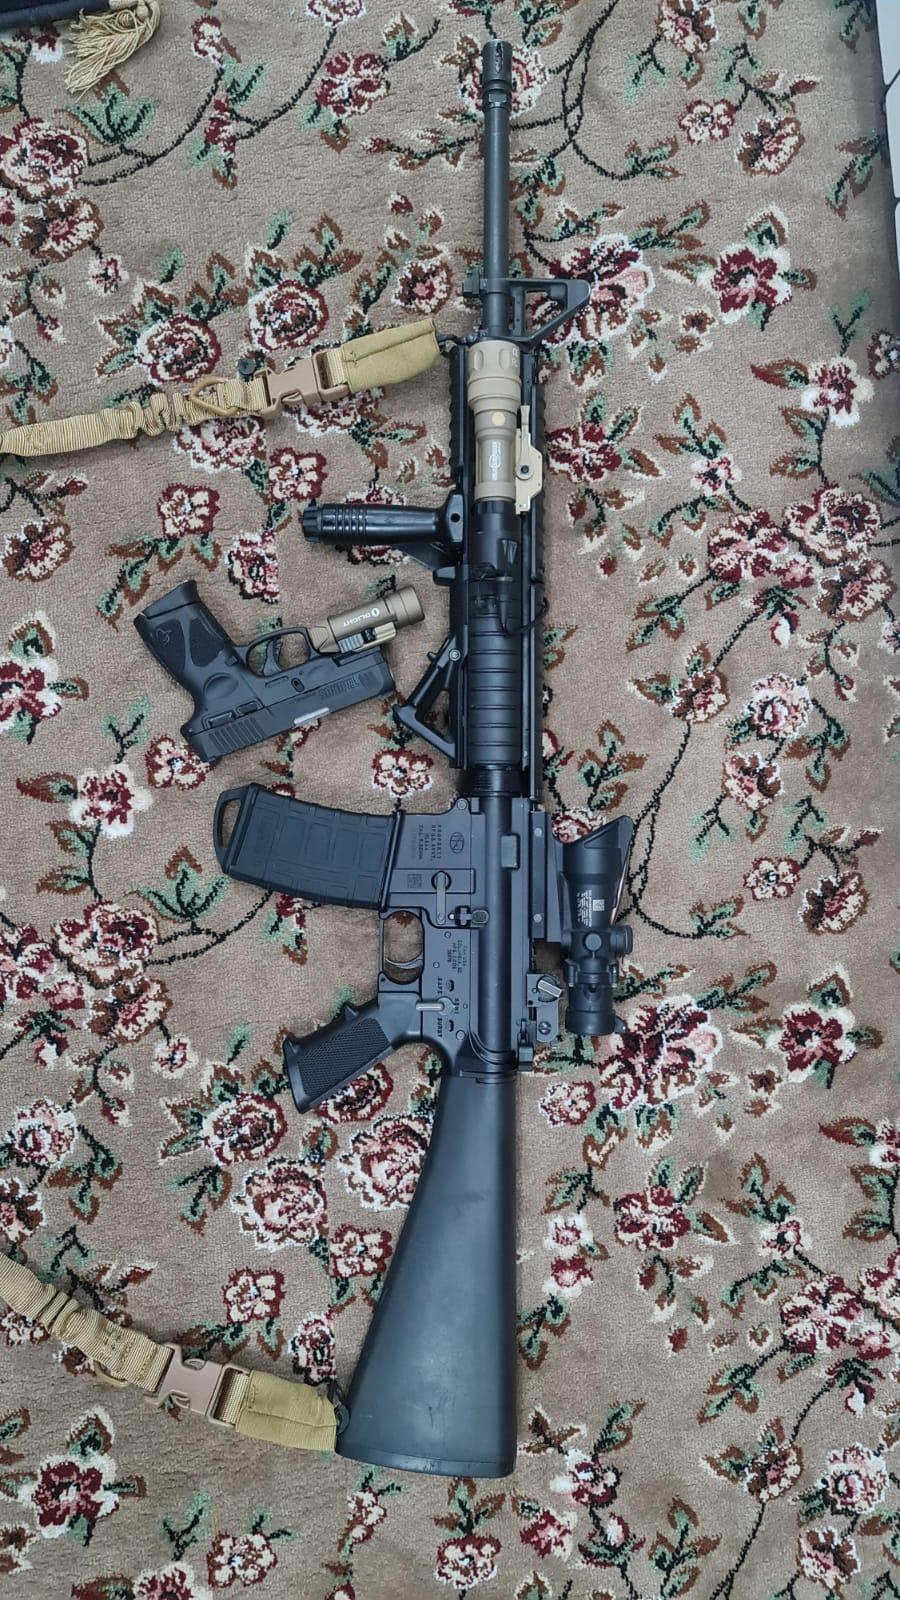weapon: (212, 44, 634, 1475), (137, 577, 401, 763)
